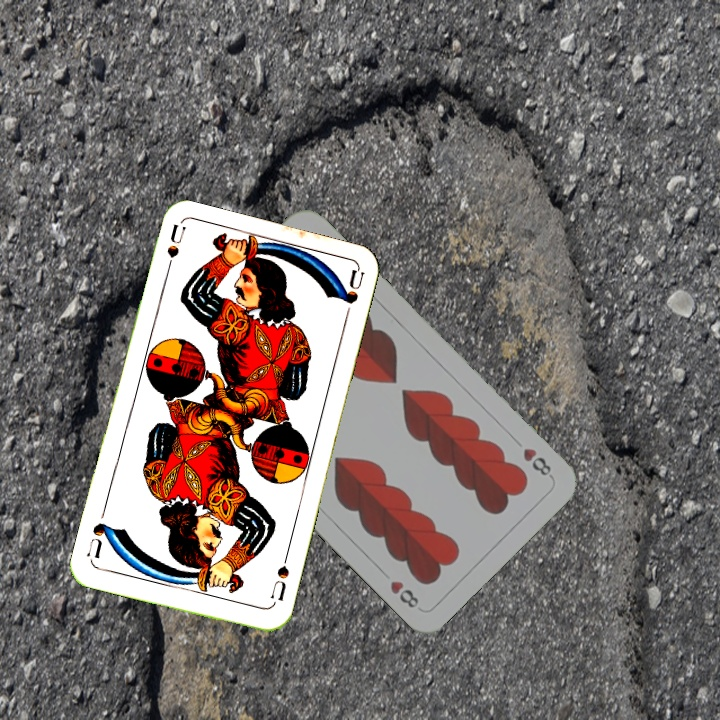H8: (519, 444, 556, 481)
SU: (161, 222, 188, 281), (266, 550, 292, 608)
